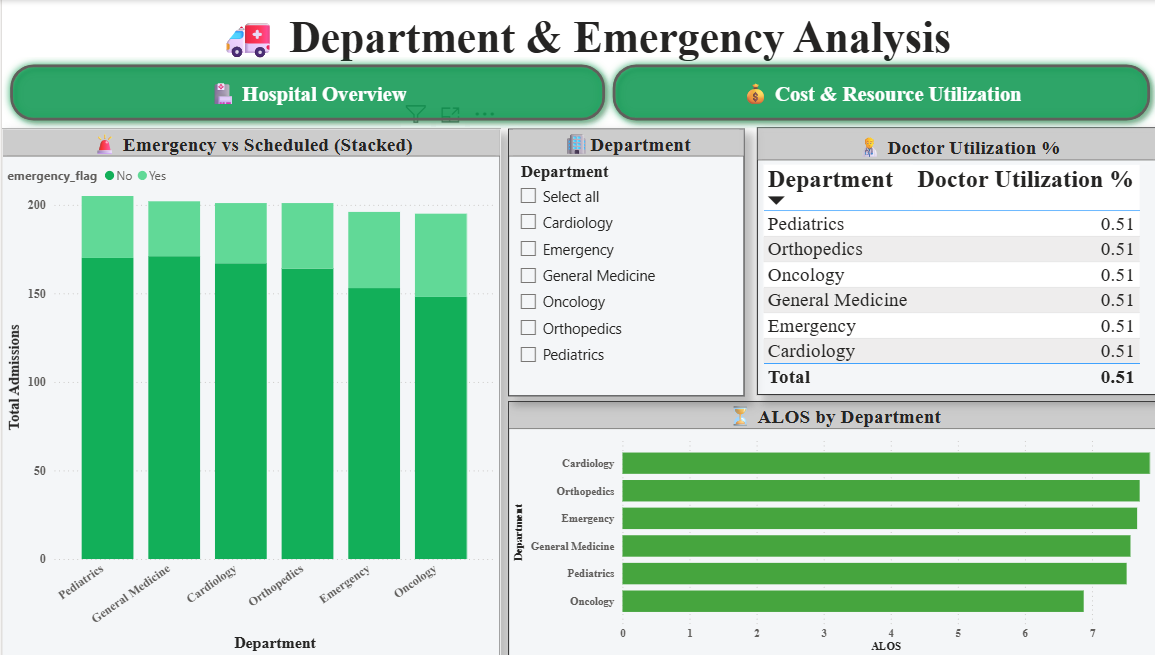

This screenshot's page, from the dashboard's own definition file:
{"tool":"powerbi","page":{"name":"🚑 Department & Emergency Analysis","canvas":[1280,720],"ordinal":1},"visuals":[{"type":"columnChart","title":"🚨 Emergency vs Scheduled (Stacked)","fields":{"Category":["Admissions.department"],"Y":["Admissions.Total Admissions"],"Series":["Admissions.emergency_flag"]},"box":[0,141.3,547.5,579.1],"z":0},{"type":"clusteredBarChart","title":"⏳ ALOS by Department","fields":{"Category":["Admissions.department"],"Y":["Admissions.ALOS"]},"box":[555.7,440.5,713.6,279.9],"z":1000},{"type":"tableEx","title":"👨⚕️ Doctor Utilization %","fields":{"Values":["Admissions.department","Doctors.Doctor Utilization %"]},"box":[828.8,140,440.5,293.7],"z":2000},{"type":"textbox","box":[9.6,0,1259.7,97.4],"z":3000},{"type":"slicer","title":"🏢Department","fields":{"Values":["Admissions.department"]},"box":[555.7,141.3,259.3,293.7],"z":4000},{"type":"actionButton","title":"🚑 Department & Emergency Analysis","box":[0,61.7,671,79.6],"z":5000},{"type":"actionButton","title":"🚑 Department & Emergency Analysis","box":[661.4,61.7,607.9,79.6],"z":5001}]}

Visuals, with their boxes in screenshot pixels (x1, y1, x2, y2), scaled from the page's 1280x720 canvas onto the 1155x655 screenshot:
"🚨 Emergency vs Scheduled (Stacked)" columnChart: rect(0, 129, 494, 654)
"⏳ ALOS by Department" clusteredBarChart: rect(501, 401, 1145, 654)
"👨⚕️ Doctor Utilization %" tableEx: rect(748, 127, 1145, 395)
textbox: rect(9, 0, 1145, 89)
"🏢Department" slicer: rect(501, 129, 735, 396)
"🚑 Department & Emergency Analysis" actionButton: rect(0, 56, 605, 129)
"🚑 Department & Emergency Analysis" actionButton: rect(597, 56, 1145, 129)
